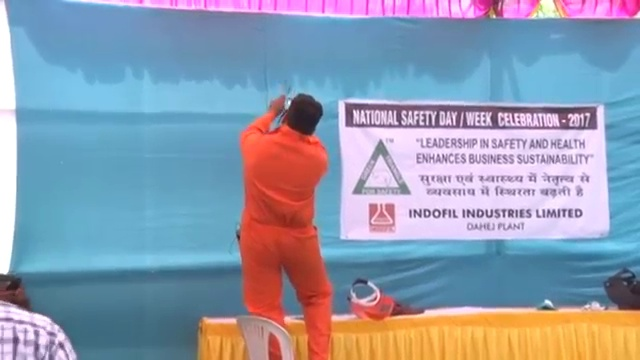helmet_off: (285, 94, 323, 137)
person: (234, 92, 336, 360)
